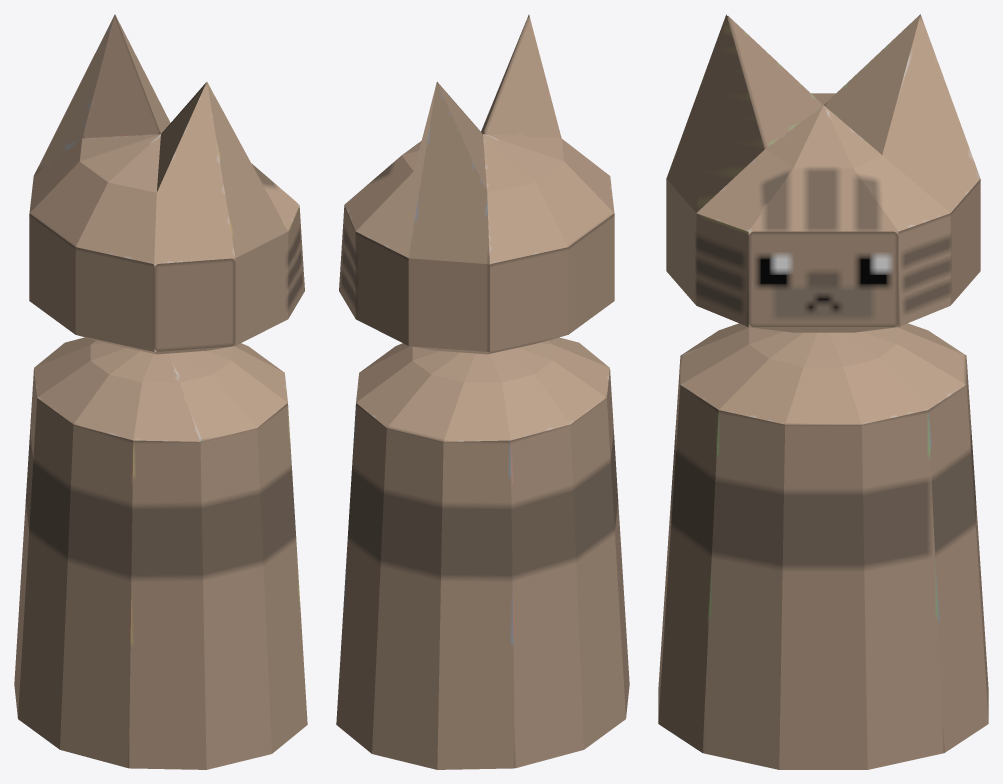
Rendered from NPC 5.1.obj.
The picture shows the model from 3 angles, left to right: view 1: azimuth 30°, elevation 25°; view 2: azimuth 150°, elevation 25°; view 3: azimuth 270°, elevation 25°; orthographic projection. The views are drawn at different scales.
Parts seen in each view (by area): view 1: sphere; view 2: sphere; view 3: sphere.
Part boxes in pixels (box(x1,y1,x2,y2)): sphere: box(14, 14, 307, 769); sphere: box(336, 14, 629, 769); sphere: box(658, 14, 988, 769).
Bounding box in the file's own units: 0.2109 × 0.5425 × 0.2344.
1 material, 1 textured.
